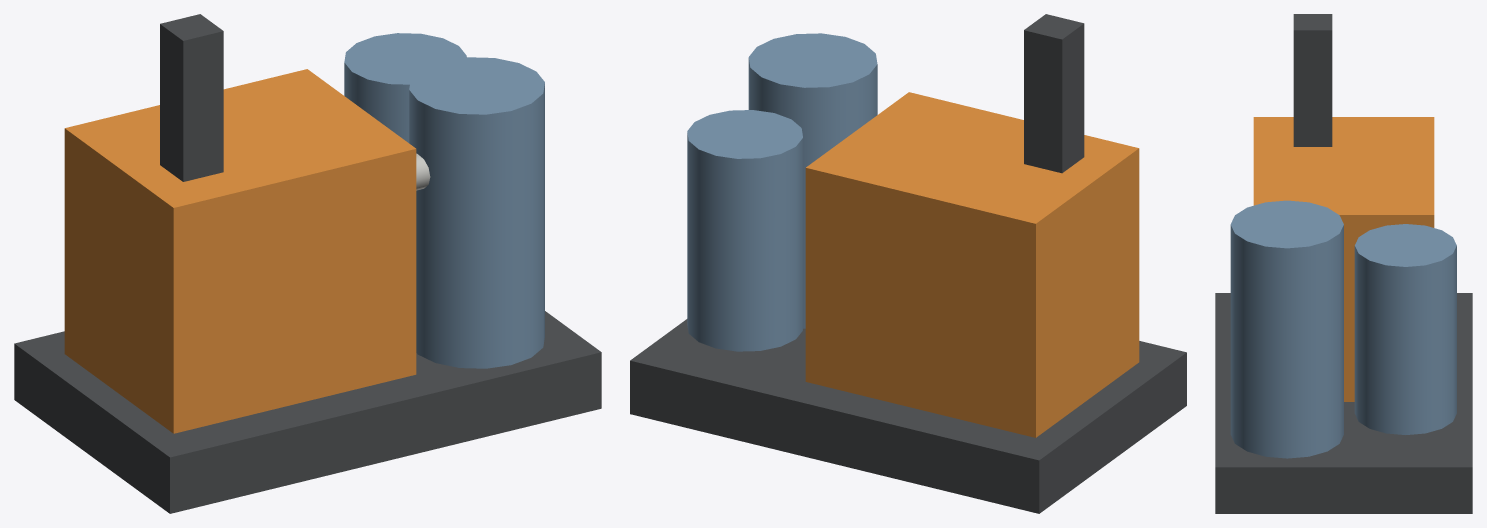
The model's file is machine.glb.
3 renders of one model, left to right at view 1: azimuth 30°, elevation 25°; view 2: azimuth 150°, elevation 25°; view 3: azimuth 270°, elevation 25°, orthographic. The views are drawn at different scales.
Visible parts, largest first — view 1: корпус, станина, бак 1, дымоход, бак 2; view 2: корпус, станина, бак 2, бак 1, дымоход; view 3: бак 1, станина, бак 2, корпус, дымоход.
Part boxes in pixels (x1,y1,x2,y2): корпус: (64,69,416,433); станина: (14,311,601,513); бак 1: (409,57,544,368); дымоход: (160,14,223,181); бак 2: (344,33,466,142); корпус: (805,92,1139,437); станина: (630,319,1186,513); бак 2: (687,110,802,351); бак 1: (748,33,877,328); дымоход: (1024,14,1084,173); бак 1: (1230,200,1343,458); станина: (1215,293,1472,513); бак 2: (1354,224,1456,434); корпус: (1253,117,1434,401); дымоход: (1293,14,1332,146).
Bounding box in the file's own units: 1.6 × 1.5 × 1.
